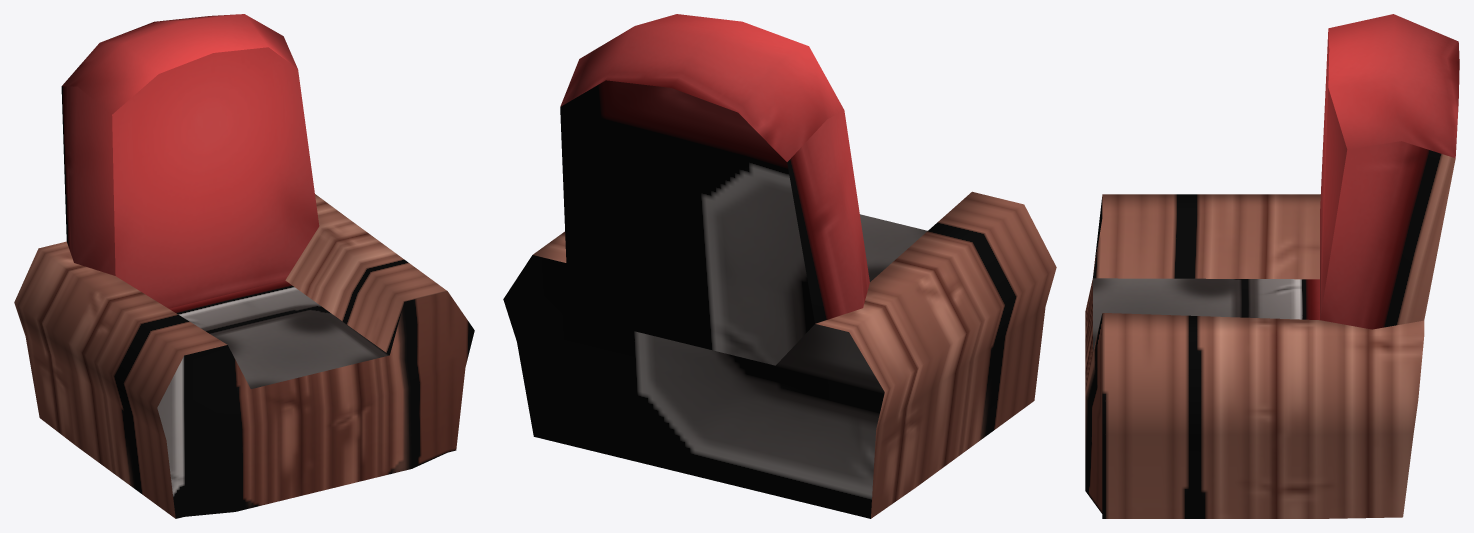
The model's file is Chair2.fbx.
The picture shows the model from 3 angles, left to right: view 1: azimuth 30°, elevation 25°; view 2: azimuth 150°, elevation 25°; view 3: azimuth 270°, elevation 25°; orthographic projection. The views are drawn at different scales.
Parts seen in each view (by area): view 1: pCube54; view 2: pCube54; view 3: pCube54.
Boxes of the visible parts, left/top/right/bottom form: pCube54: left=14, top=14, right=474, bottom=518; pCube54: left=503, top=14, right=1056, bottom=518; pCube54: left=1085, top=14, right=1459, bottom=518.
Bounding box in the file's own units: 1.66 × 1.83 × 1.53.
